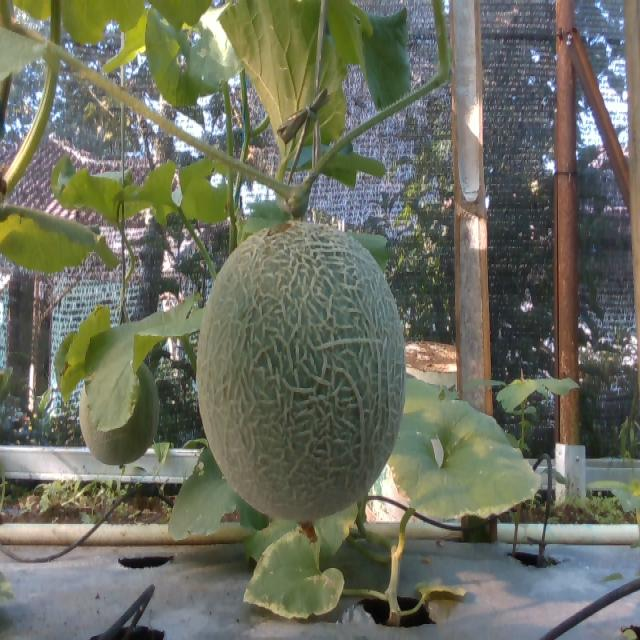melon: (197, 221, 405, 522)
